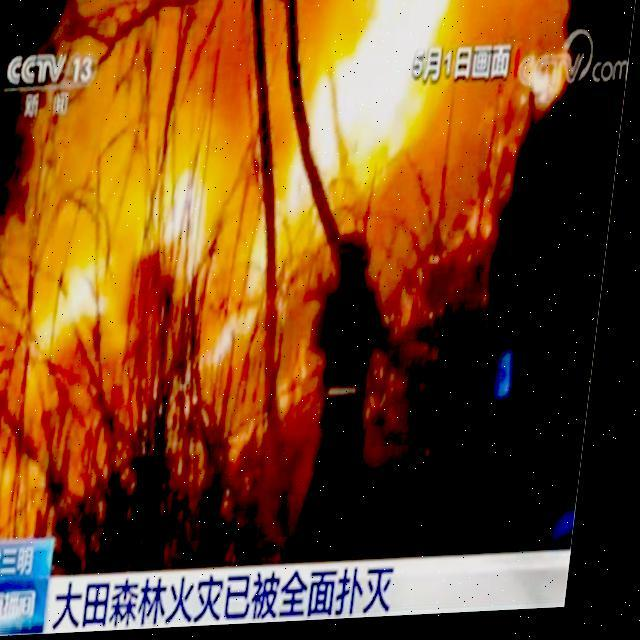Fire: (0, 18, 441, 534)
